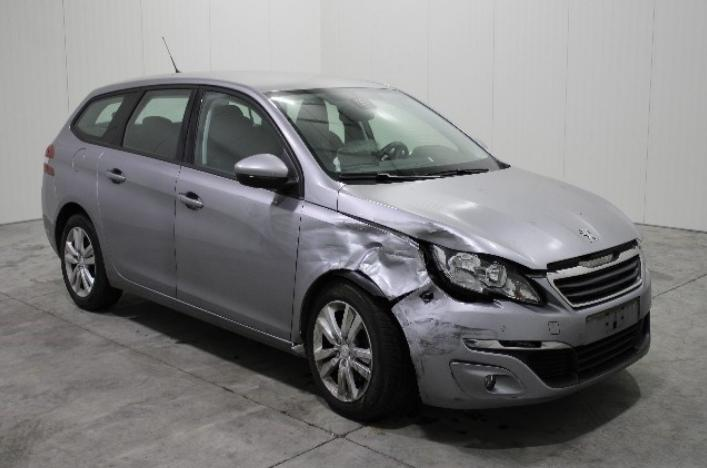Back-bumper: (40, 171, 60, 255)
Back-door: (97, 84, 199, 298)
Back-wheel: (60, 214, 123, 313)
Back-window: (122, 89, 193, 159), (75, 94, 126, 138)
Fender: (291, 201, 431, 343)
Front-bumper: (392, 255, 652, 407)
Front-door: (175, 85, 303, 340)
Front-wheel: (306, 284, 416, 423)
Front-window: (192, 90, 299, 180)
Grille: (546, 245, 645, 308)
Headlight: (432, 244, 541, 304)
Hood: (338, 166, 641, 269)
Mirror: (235, 154, 300, 199)
Quarter-panel: (51, 126, 118, 271)
Rocker-panel: (105, 270, 306, 357)
Roof: (84, 71, 398, 99)
Tail-light: (43, 144, 55, 176)
Windshield: (265, 88, 500, 184)
